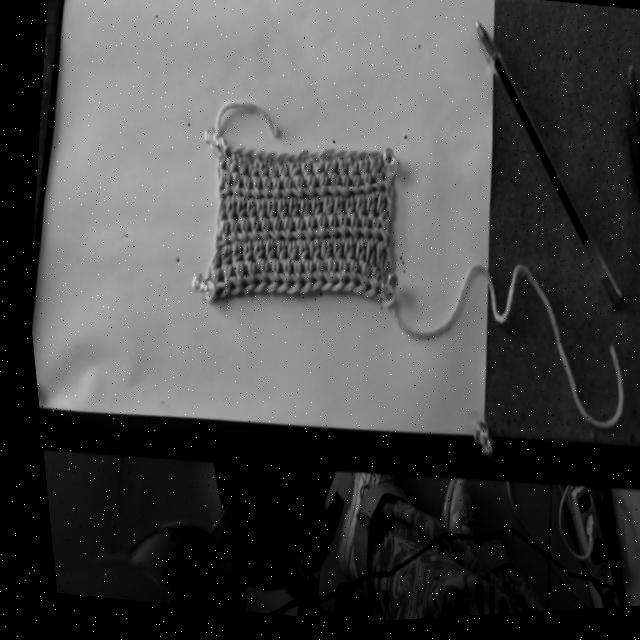ch: (311, 151, 330, 162), (287, 153, 304, 164), (336, 154, 353, 164), (257, 153, 272, 164), (296, 154, 314, 163), (326, 152, 342, 162), (349, 155, 366, 163), (363, 155, 377, 164), (276, 156, 291, 164), (268, 155, 283, 163), (223, 148, 240, 155), (236, 151, 252, 157), (247, 153, 259, 158)
hdc: (267, 259, 286, 295), (312, 258, 330, 295), (208, 264, 226, 300), (346, 263, 364, 298), (322, 261, 341, 294), (256, 259, 273, 295), (334, 261, 351, 295), (222, 262, 238, 297), (279, 262, 295, 297), (235, 260, 250, 297), (247, 260, 263, 294), (302, 261, 318, 294), (356, 270, 373, 301), (291, 262, 306, 297), (340, 215, 354, 248), (329, 213, 342, 248), (297, 175, 311, 207), (274, 216, 287, 250), (308, 214, 321, 248), (297, 215, 309, 251), (321, 175, 335, 205), (343, 176, 357, 206), (286, 177, 299, 208), (231, 219, 244, 250), (262, 217, 275, 248), (286, 219, 299, 250), (330, 176, 344, 204), (353, 175, 366, 205), (241, 218, 253, 250), (319, 216, 331, 248), (307, 159, 321, 186), (310, 176, 323, 205), (251, 219, 264, 248), (222, 218, 233, 252), (244, 178, 256, 208), (275, 178, 287, 208), (349, 238, 359, 274), (349, 196, 360, 228), (373, 218, 384, 250), (225, 242, 236, 274), (314, 240, 326, 269), (213, 246, 225, 275), (255, 177, 266, 208), (353, 218, 364, 249), (247, 241, 258, 272), (359, 241, 369, 275), (271, 198, 283, 226), (363, 219, 374, 249), (303, 240, 314, 270), (320, 159, 333, 184), (235, 177, 246, 206), (220, 196, 231, 225), (295, 160, 308, 184), (259, 239, 269, 270), (265, 179, 276, 207), (250, 200, 261, 228), (337, 239, 348, 267), (270, 242, 280, 272), (230, 198, 240, 227), (361, 194, 370, 226), (237, 241, 246, 273), (242, 157, 253, 183), (272, 162, 285, 184), (215, 171, 226, 197), (212, 222, 223, 248), (283, 198, 293, 226), (369, 245, 377, 280), (281, 242, 291, 270), (366, 177, 377, 202), (327, 198, 338, 223), (292, 243, 303, 268), (220, 156, 233, 177), (261, 200, 271, 227), (339, 196, 349, 223), (252, 159, 263, 183), (371, 195, 379, 228), (364, 161, 377, 181), (317, 198, 327, 224), (262, 162, 273, 185), (353, 160, 364, 183), (226, 176, 235, 204), (332, 160, 344, 181), (232, 155, 242, 180), (294, 199, 304, 224), (241, 200, 250, 227), (283, 164, 295, 184), (343, 160, 353, 184), (212, 197, 221, 223), (306, 198, 316, 221), (377, 180, 387, 202), (327, 242, 336, 266)
